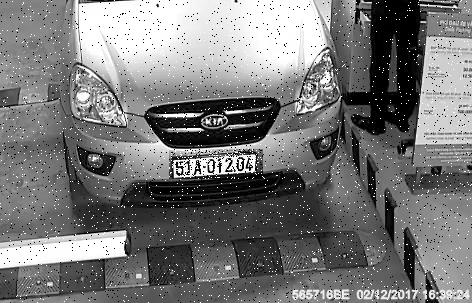License-plate: (171, 150, 266, 180)
